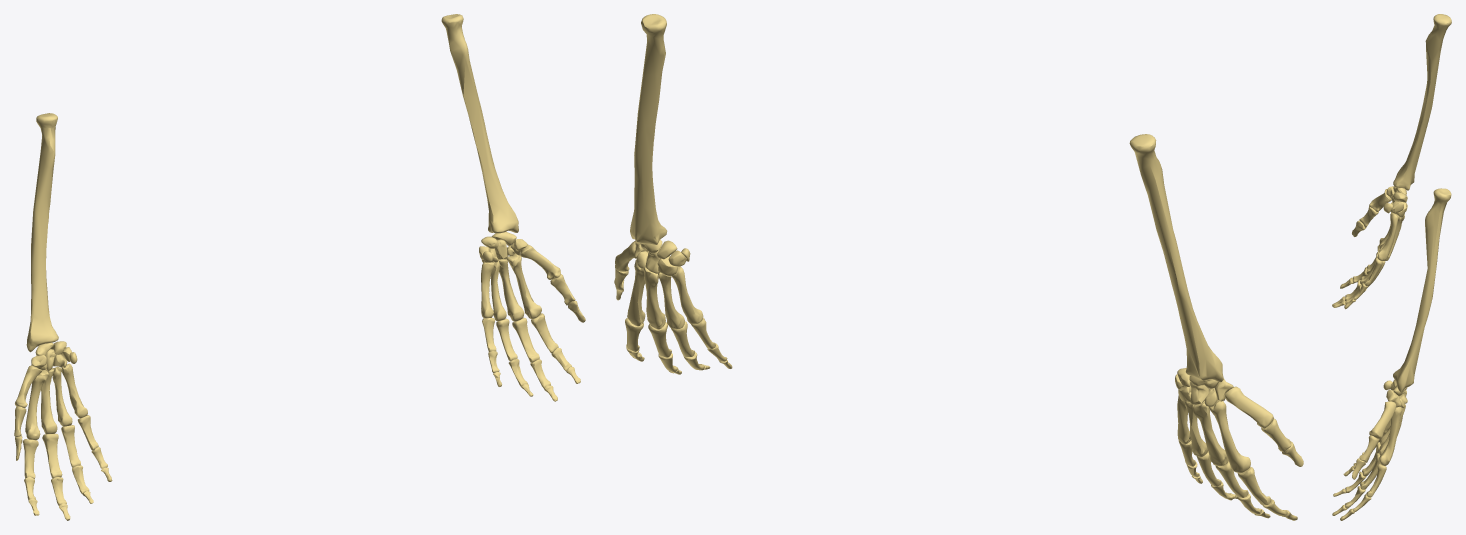
Rendered from wrist-hand.glb.
3 renders of one model, left to right at view 1: azimuth 30°, elevation 25°; view 2: azimuth 150°, elevation 25°; view 3: azimuth 270°, elevation 25°, orthographic. The views are drawn at different scales.
Visible parts, largest first — view 1: wrist-hand:radius:isa:FJ3349, wrist-hand:radius:isa:FJ3277, wrist-hand:second-metacarpal-bone:isa:FJ3352, wrist-hand:second-metacarpal-bone:isa:FJ3243, wrist-hand:third-metacarpal-bone:isa:FJ3246, wrist-hand:third-metacarpal-bone:isa:FJ3354; view 2: wrist-hand:radius:isa:FJ3349, wrist-hand:radius:isa:FJ3277, wrist-hand:second-metacarpal-bone:isa:FJ3352, wrist-hand:third-metacarpal-bone:isa:FJ3354, wrist-hand:first-metacarpal-bone:isa:FJ3350, wrist-hand:third-metacarpal-bone:isa:FJ3246; view 3: wrist-hand:radius:isa:FJ3277, wrist-hand:radius:isa:FJ3349, wrist-hand:second-metacarpal-bone:isa:FJ3243, wrist-hand:first-metacarpal-bone:isa:FJ3240, wrist-hand:fifth-metacarpal-bone:isa:FJ3358, wrist-hand:proximal-phalanx-of-index-finger:isa:FJ3313, wrist-hand:first-metacarpal-bone:isa:FJ3350, wrist-hand:proximal-phalanx-of-middle-finger:isa:FJ3316, wrist-hand:proximal-phalanx-of-thumb:isa:FJ3318, wrist-hand:proximal-phalanx-of-thumb:isa:FJ3327, wrist-hand:proximal-phalanx-of-little-finger:isa:FJ3323, wrist-hand:proximal-phalanx-of-ring-finger:isa:FJ3317 (+3 smaller).
Boxes of the visible parts, <box> form: wrist-hand:radius:isa:FJ3349: <box>26,113,58,352</box>; wrist-hand:radius:isa:FJ3277: <box>441,14,518,233</box>; wrist-hand:second-metacarpal-bone:isa:FJ3352: <box>25,370,48,440</box>; wrist-hand:second-metacarpal-bone:isa:FJ3243: <box>506,253,541,318</box>; wrist-hand:third-metacarpal-bone:isa:FJ3246: <box>498,259,524,321</box>; wrist-hand:third-metacarpal-bone:isa:FJ3354: <box>41,369,57,434</box>; wrist-hand:radius:isa:FJ3349: <box>1129,134,1223,382</box>; wrist-hand:radius:isa:FJ3277: <box>630,14,667,244</box>; wrist-hand:second-metacarpal-bone:isa:FJ3352: <box>1208,400,1250,473</box>; wrist-hand:third-metacarpal-bone:isa:FJ3354: <box>1193,401,1228,465</box>; wrist-hand:first-metacarpal-bone:isa:FJ3350: <box>1225,386,1273,428</box>; wrist-hand:third-metacarpal-bone:isa:FJ3246: <box>643,267,665,329</box>; wrist-hand:radius:isa:FJ3277: <box>1393,188,1451,392</box>; wrist-hand:radius:isa:FJ3349: <box>1393,14,1451,190</box>; wrist-hand:second-metacarpal-bone:isa:FJ3243: <box>1379,407,1401,465</box>; wrist-hand:first-metacarpal-bone:isa:FJ3240: <box>1369,401,1396,439</box>; wrist-hand:fifth-metacarpal-bone:isa:FJ3358: <box>1377,213,1398,260</box>; wrist-hand:proximal-phalanx-of-index-finger:isa:FJ3313: <box>1366,463,1386,497</box>; wrist-hand:first-metacarpal-bone:isa:FJ3350: <box>1369,189,1391,211</box>; wrist-hand:proximal-phalanx-of-middle-finger:isa:FJ3316: <box>1360,453,1380,489</box>; wrist-hand:proximal-phalanx-of-thumb:isa:FJ3318: <box>1359,435,1378,462</box>; wrist-hand:proximal-phalanx-of-thumb:isa:FJ3327: <box>1359,206,1378,227</box>; wrist-hand:proximal-phalanx-of-little-finger:isa:FJ3323: <box>1364,257,1382,285</box>; wrist-hand:proximal-phalanx-of-ring-finger:isa:FJ3317: <box>1362,442,1380,476</box>.
Size of the model in its own units: 0.6478 by 0.382 by 0.1343.
